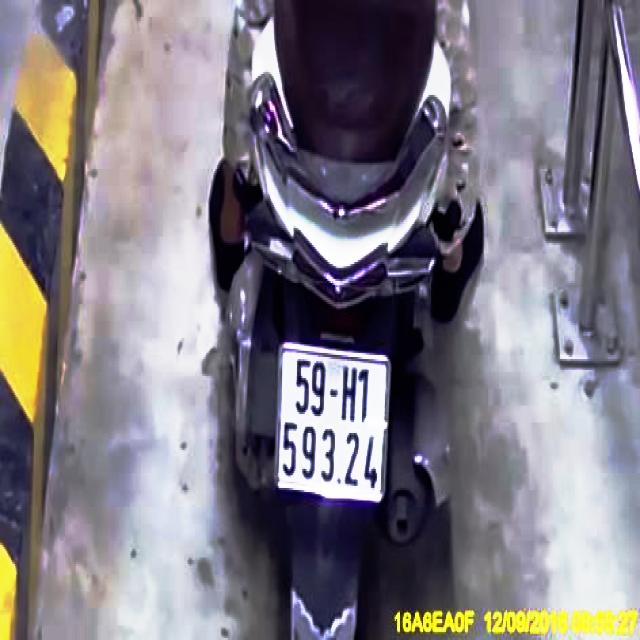license_plate: (277, 347, 390, 498)
